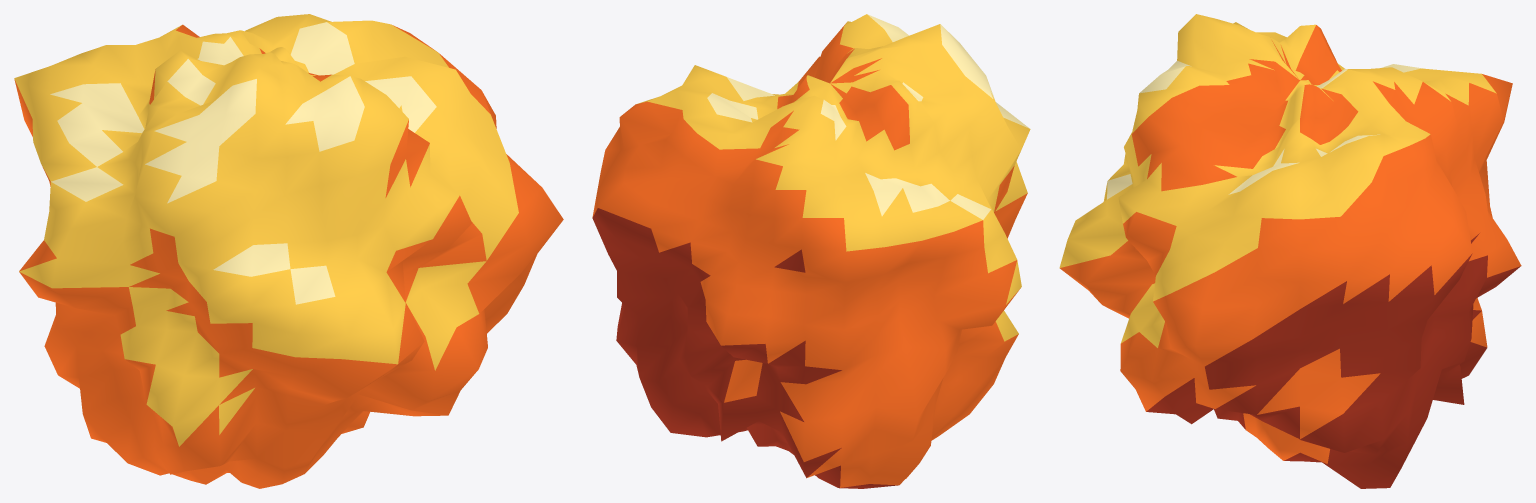
Rendered from fire_core.glb.
The picture shows the model from 3 angles, left to right: view 1: azimuth 30°, elevation 25°; view 2: azimuth 150°, elevation 25°; view 3: azimuth 270°, elevation 25°; orthographic projection. The views are drawn at different scales.
Parts seen in each view (by area): view 1: fire_core; view 2: fire_core; view 3: fire_core.
Boxes of the visible parts, box(x1,y1,x2,y2) form: fire_core: box(14, 14, 563, 488); fire_core: box(592, 14, 1030, 488); fire_core: box(1059, 14, 1521, 488).
Size of the model in its own units: 1.84 by 1.71 by 1.75.
